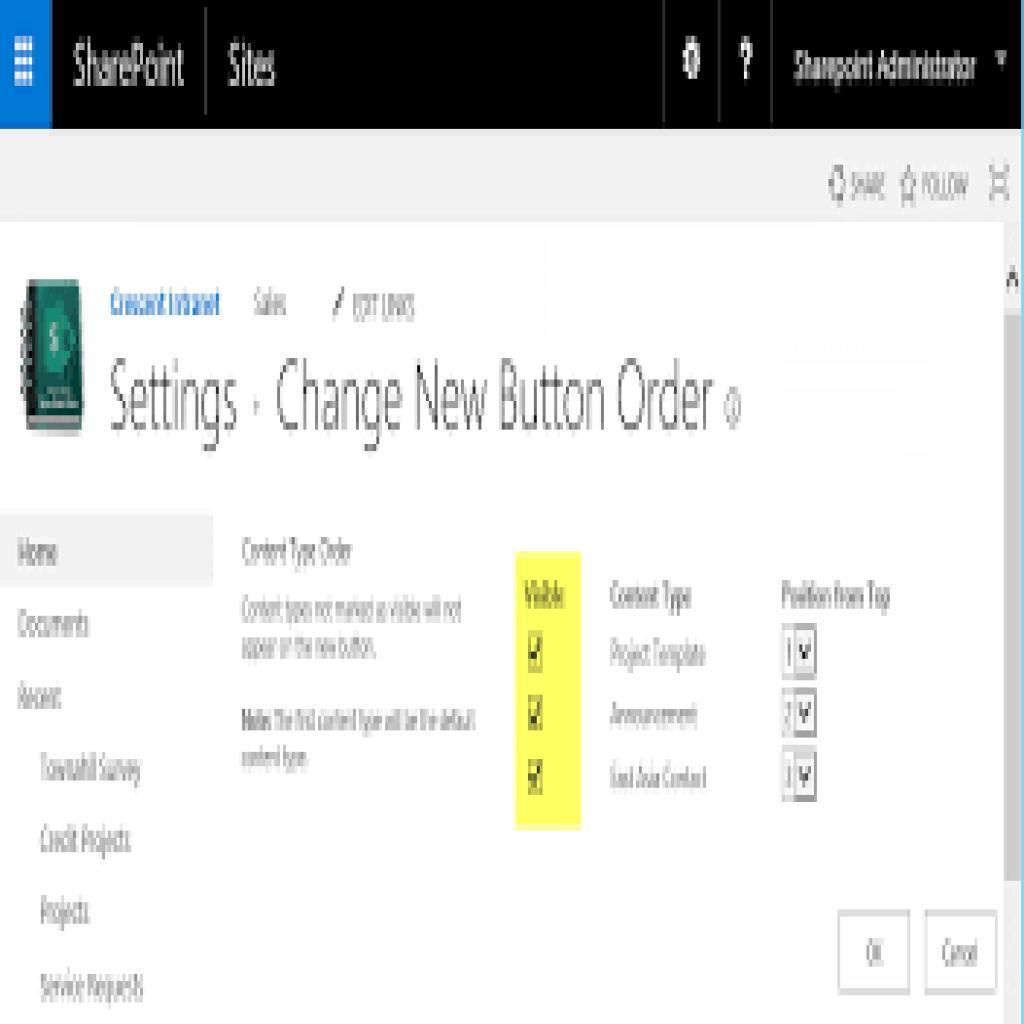button: (924, 911, 998, 995), (841, 911, 911, 994)
checkbox: (790, 688, 815, 736), (791, 627, 817, 673), (794, 751, 817, 800), (528, 632, 546, 672), (527, 762, 546, 798), (528, 695, 546, 732)
dropdown: (777, 1, 1024, 131)
icon: (1, 1, 54, 131), (678, 35, 706, 88), (737, 37, 756, 84)
